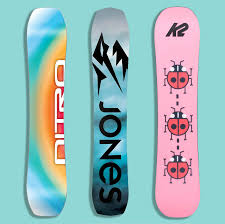snowboard: (152, 5, 201, 220), (25, 6, 69, 218), (90, 6, 130, 216)
